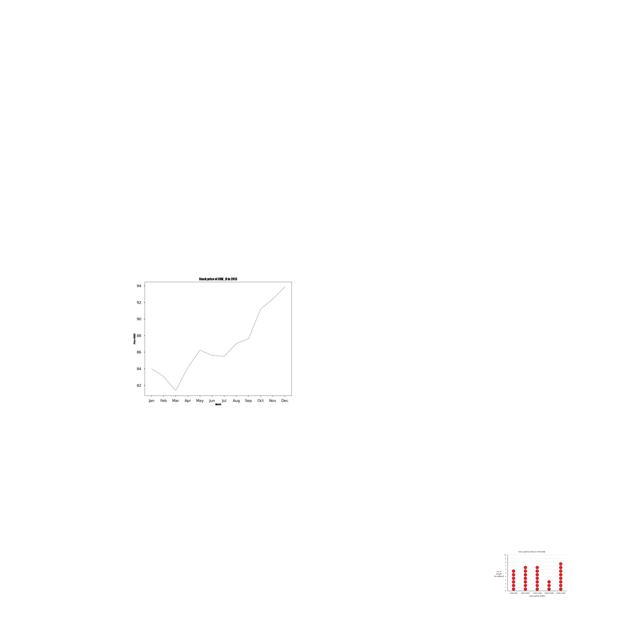Graph: (108, 264, 323, 412), (492, 549, 568, 599)
